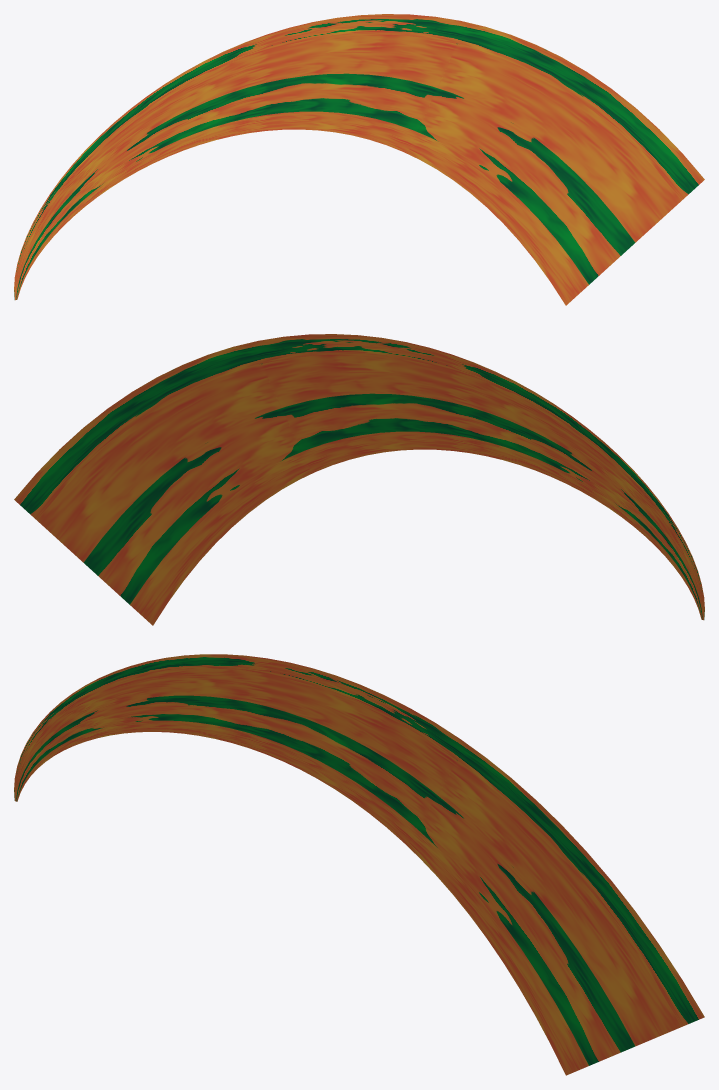
The model's file is p_trashbot_start_sprinkler03_pose1.fbx.
3 views of the same model, one above another, from view 1: azimuth 30°, elevation 25°; view 2: azimuth 150°, elevation 25°; view 3: azimuth 330°, elevation 25° (orthographic).
Parts seen in each view (by area): view 1: p_sprinkle_start_plane03_pose1; view 2: p_sprinkle_start_plane03_pose1; view 3: p_sprinkle_start_plane03_pose1.
Part boxes in pixels (box(x1,y1,x2,y2)): p_sprinkle_start_plane03_pose1: box(14, 14, 704, 305); p_sprinkle_start_plane03_pose1: box(14, 334, 704, 625); p_sprinkle_start_plane03_pose1: box(14, 654, 704, 1075).
Size of the model in its own units: 86.68 by 41.45 by 4.05e-06.
